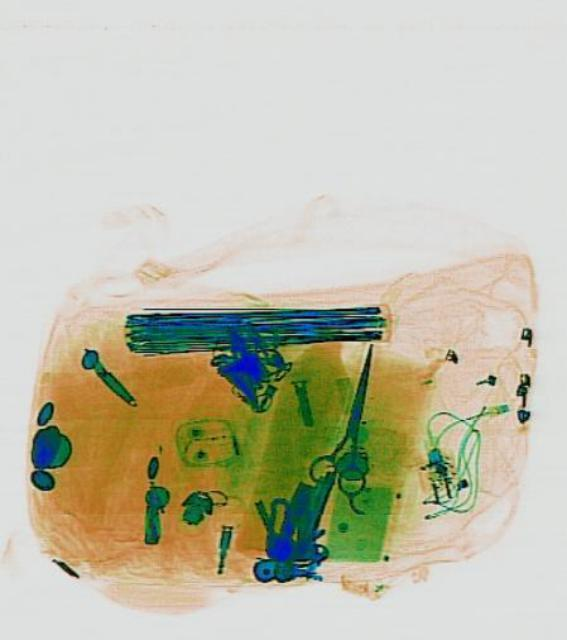Scissors: (303, 334, 398, 498)
